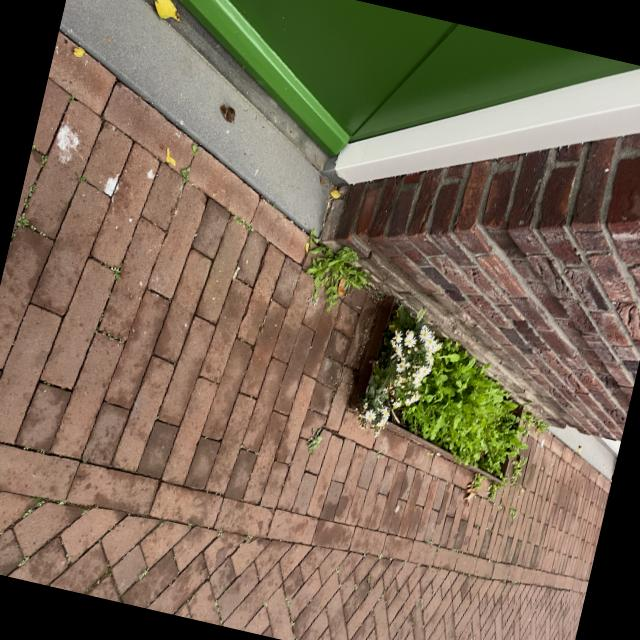pavement: (332, 445, 534, 640), (490, 36, 640, 173), (544, 156, 640, 329)
plants: (356, 162, 520, 390)
weed: (291, 368, 384, 478)
weedling: (158, 592, 231, 627), (407, 92, 437, 119), (454, 422, 479, 448)
